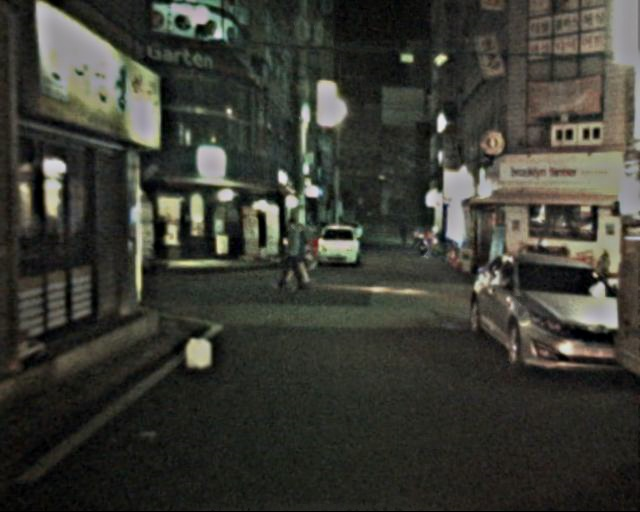person: (277, 217, 310, 298)
